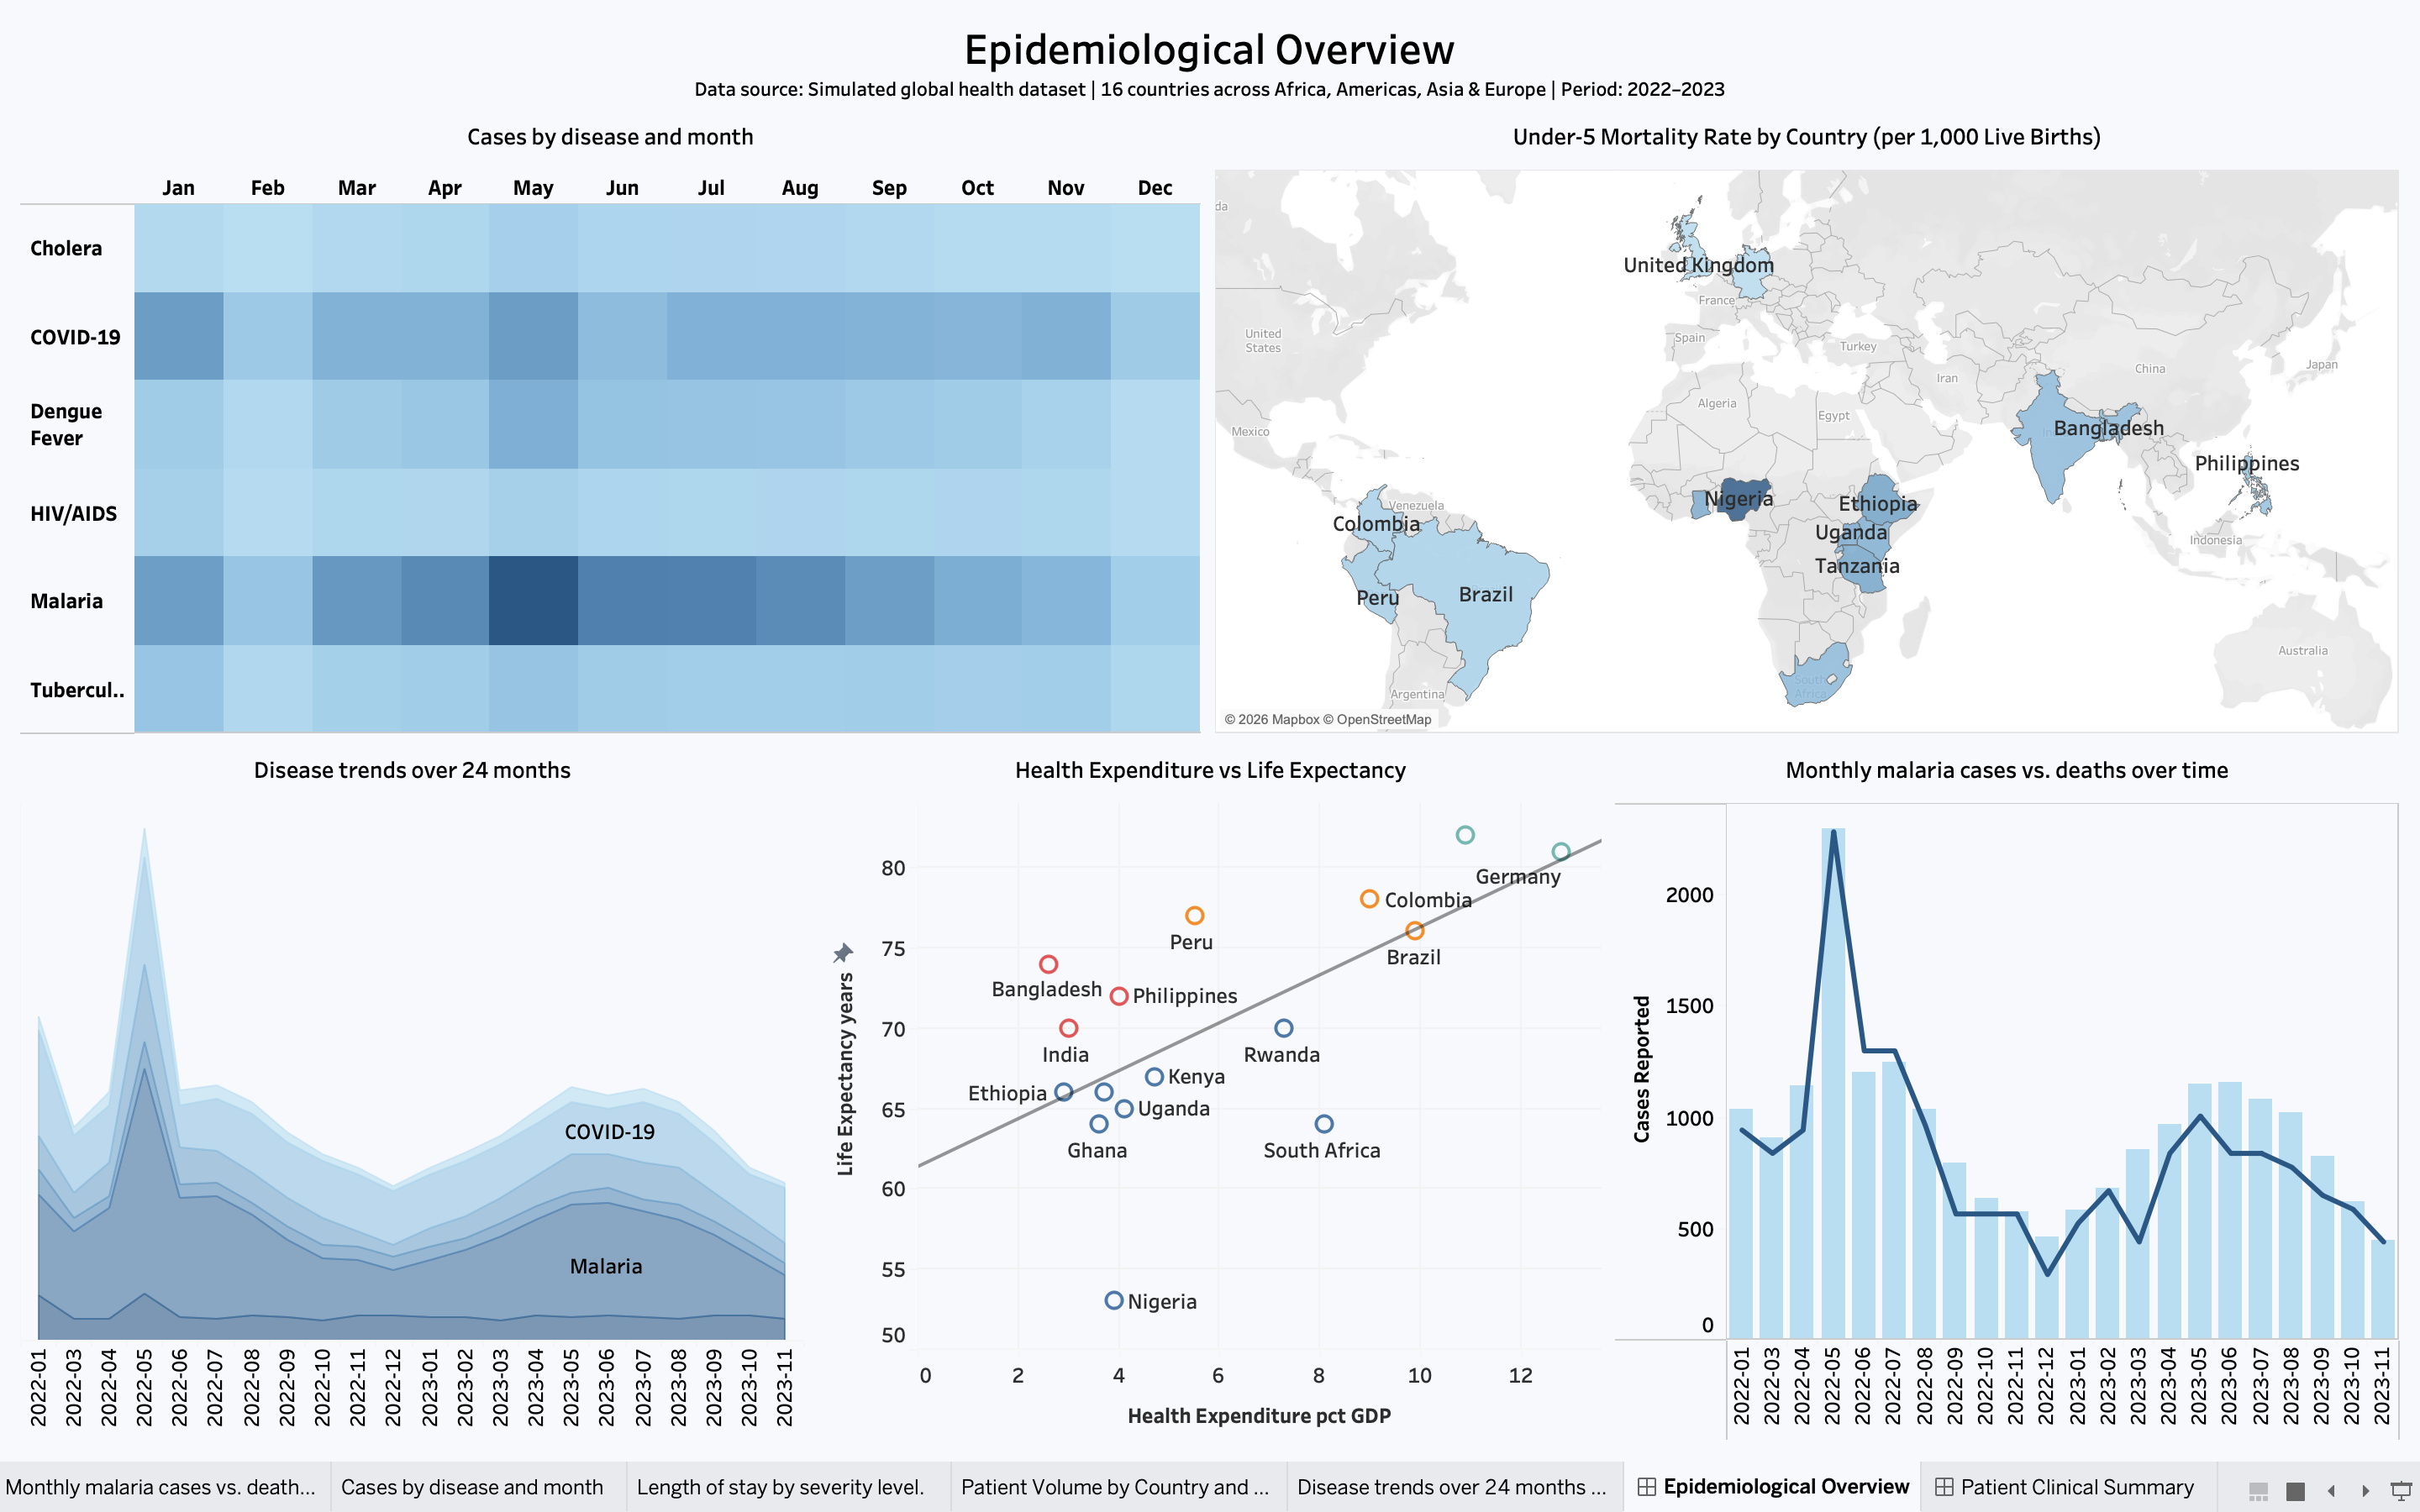

The page's visual inventory and layout, read from the dashboard file:
{"tool":"tableau","page":{"name":"Epidemiological Overview","canvas":[1000,1000],"units":"permille","ordinal":0},"visuals":[{"type":"title","box":[5.7,9.9,988.7,69.3]},{"type":"worksheet","title":"Cases by disease and month","mark":"Square","rows":["Disease"],"cols":["Month"],"box":[5.7,79.2,493.9,430.5]},{"type":"worksheet","title":"Under-5 Mortality Rate by Country (Per 1000 live births)","mark":"Automatic","box":[499.5,79.2,494.8,430.5]},{"type":"worksheet","title":"Disease trends over 24 months stacked","mark":"Area","rows":["Cases_Reported"],"cols":["Year_Month"],"box":[5.7,509.7,329.5,480.4]},{"type":"worksheet","title":"Health Expenditure vs Life Expectancy","mark":"Automatic","rows":["Life_Expectancy_years"],"cols":["Health_Expenditure_pct_GDP"],"box":[335.1,509.7,329.6,480.4]},{"type":"worksheet","title":"Monthly malaria cases vs. deaths over time.","mark":"Line","rows":["Cases_Reported","Deaths"],"cols":["Year_Month"],"box":[664.7,509.7,329.6,480.4]}]}

Visuals, with their boxes on the dashboard's canvas, which has no fixed pixel size, in thousandths of its width and height (x1, y1, x2, y2). These are canvas units, not pixel positions in the 2420x1512 screenshot, which may show the page scaled, cropped or inside an application window:
title: [x1=6, y1=10, x2=994, y2=79]
"Cases by disease and month" worksheet (Square marks): [x1=6, y1=79, x2=500, y2=510]
"Under-5 Mortality Rate by Country (Per 1000 live births)" worksheet: [x1=500, y1=79, x2=994, y2=510]
"Disease trends over 24 months stacked" worksheet (Area marks): [x1=6, y1=510, x2=335, y2=990]
"Health Expenditure vs Life Expectancy" worksheet: [x1=335, y1=510, x2=665, y2=990]
"Monthly malaria cases vs. deaths over time." worksheet (Line marks): [x1=665, y1=510, x2=994, y2=990]
